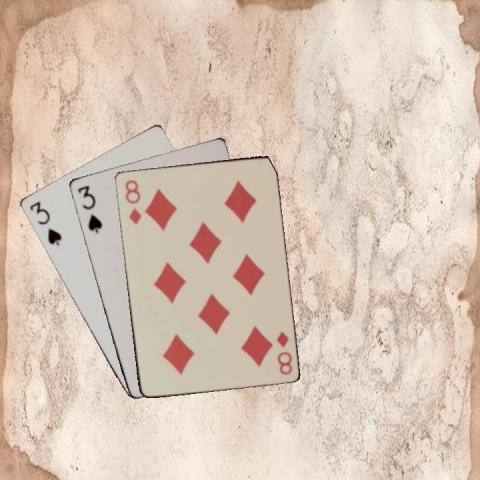3s: (26, 198, 63, 246), (75, 182, 103, 234)
8d: (121, 177, 142, 226), (273, 327, 294, 376)
